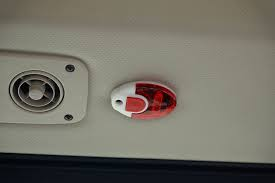bell: (108, 81, 182, 121)
